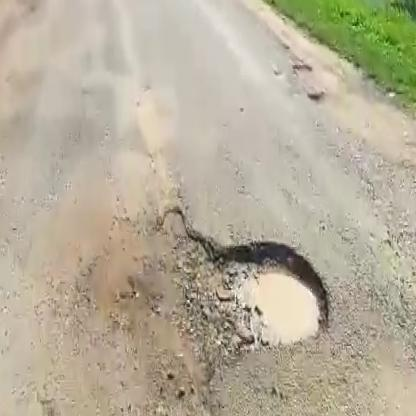pothole: (155, 235, 325, 363)
